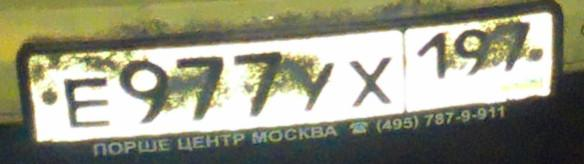license-plateSW: (28, 7, 553, 145)
